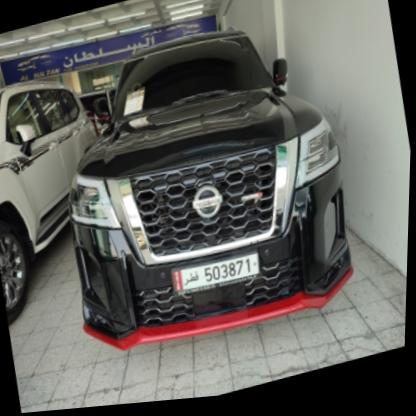np: (166, 247, 267, 303)
